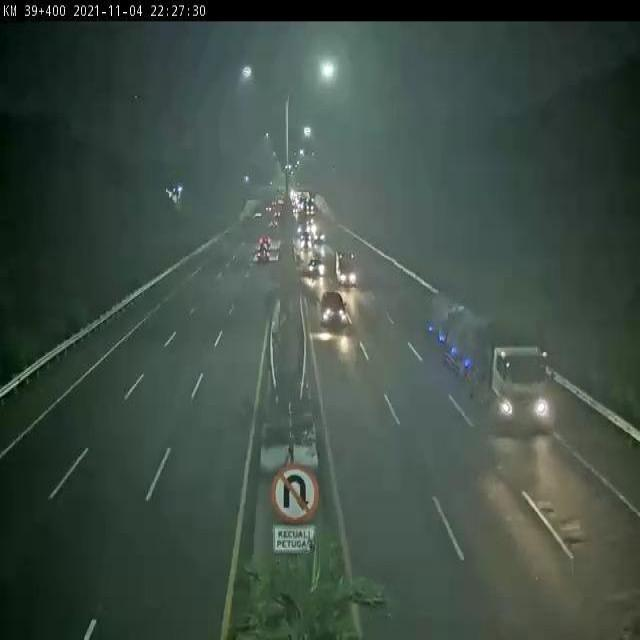car: (318, 290, 348, 326), (307, 253, 324, 275)
truck-s-: (332, 248, 356, 281)
truck-xl-: (429, 298, 546, 434)
